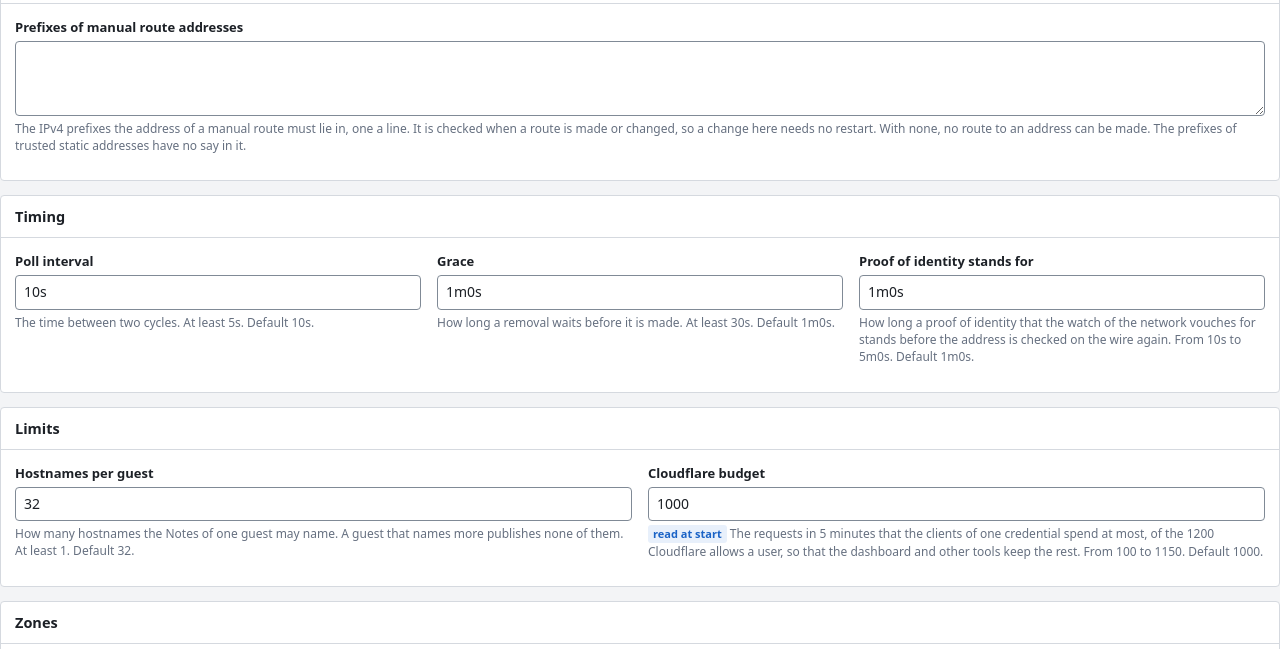
Scenario: the settings of a cluster › are shown key by key as the file has them, and a save keeps them as they were read
The width and height of the screenshot is (1280, 649).
(page scrolled)
Step 1. Replace the text in the field labelled "Poll interval" with "30s" → (218, 292), box [15, 275, 421, 310]
(page scrolled)
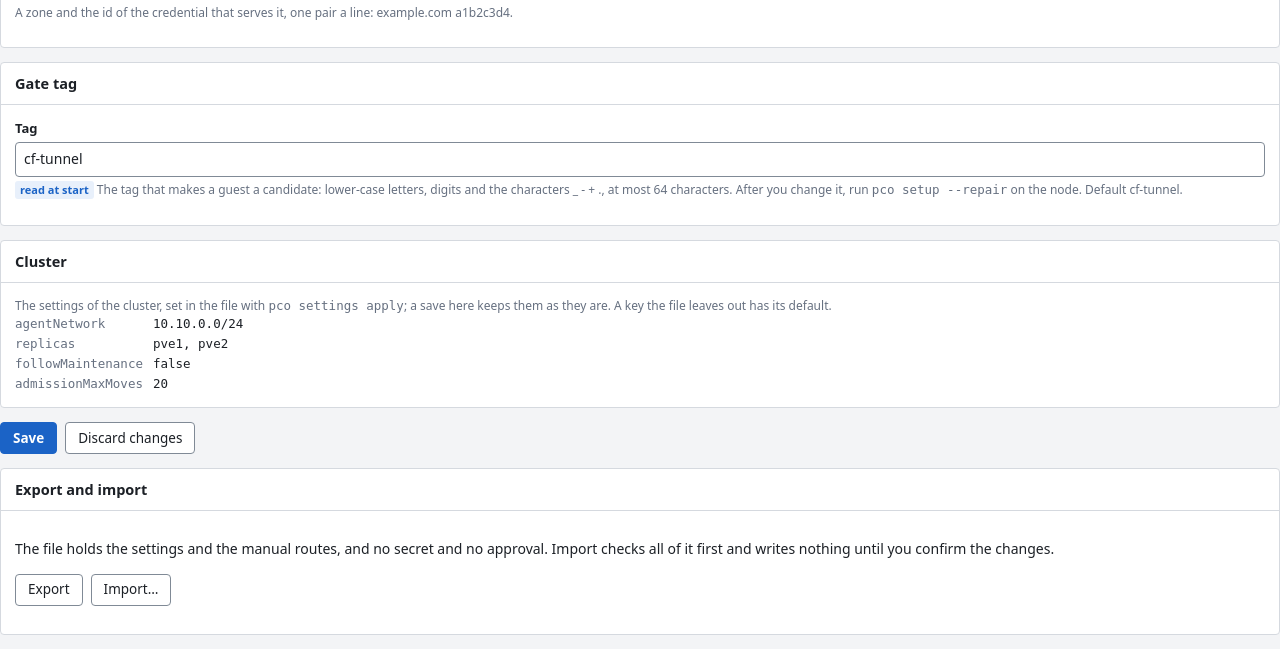
Step 2. Click the button "Save" → (29, 438), box [0, 422, 57, 454]
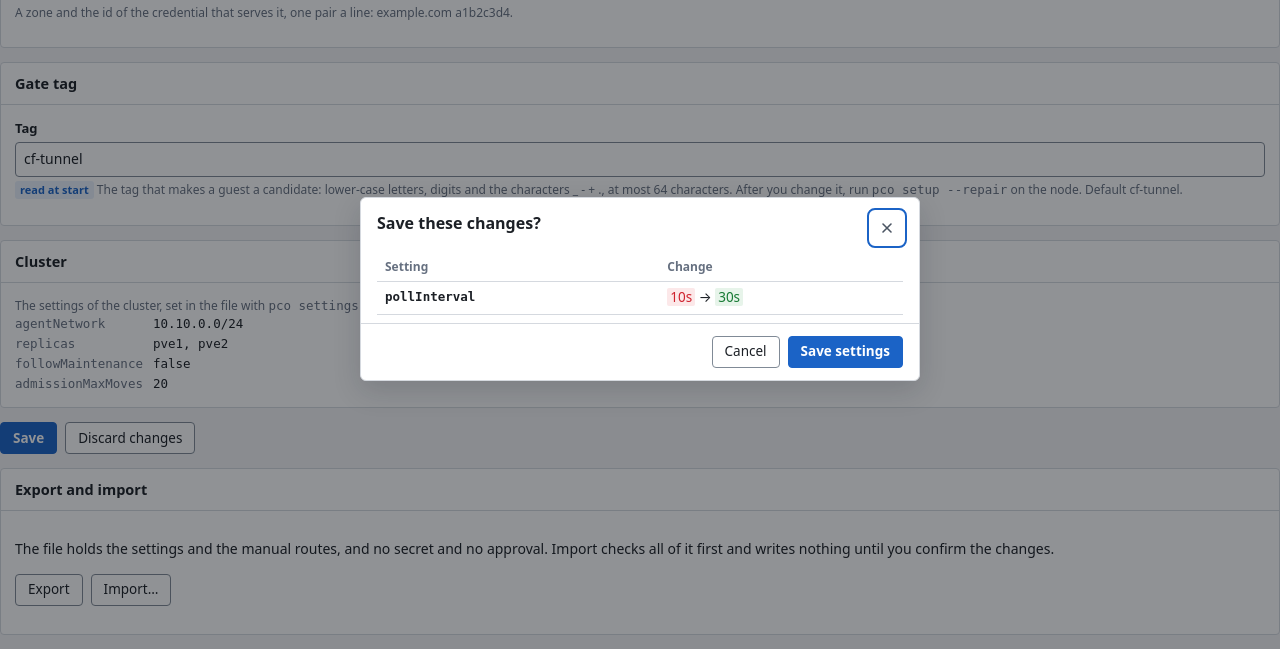
Step 3. Click the button "Save settings" → (845, 352), box [788, 336, 903, 368]
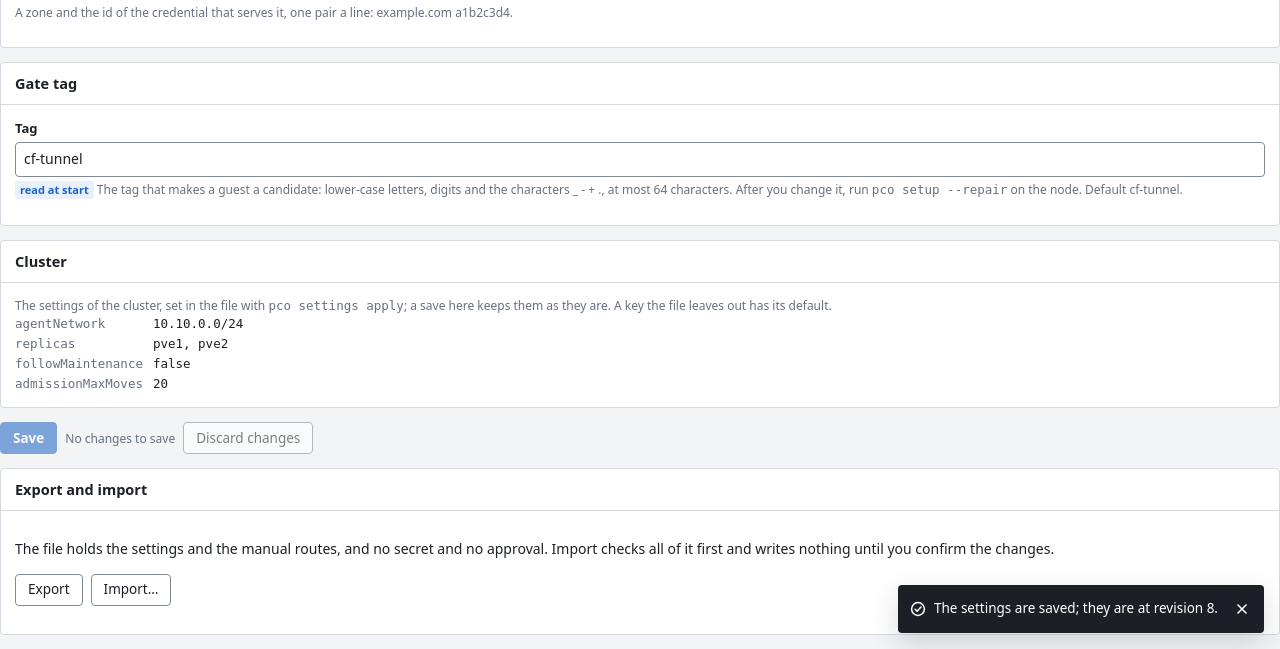
Expected: the text "The settings are saved; they are at revision 8." is shown, [934, 599, 1218, 617]
